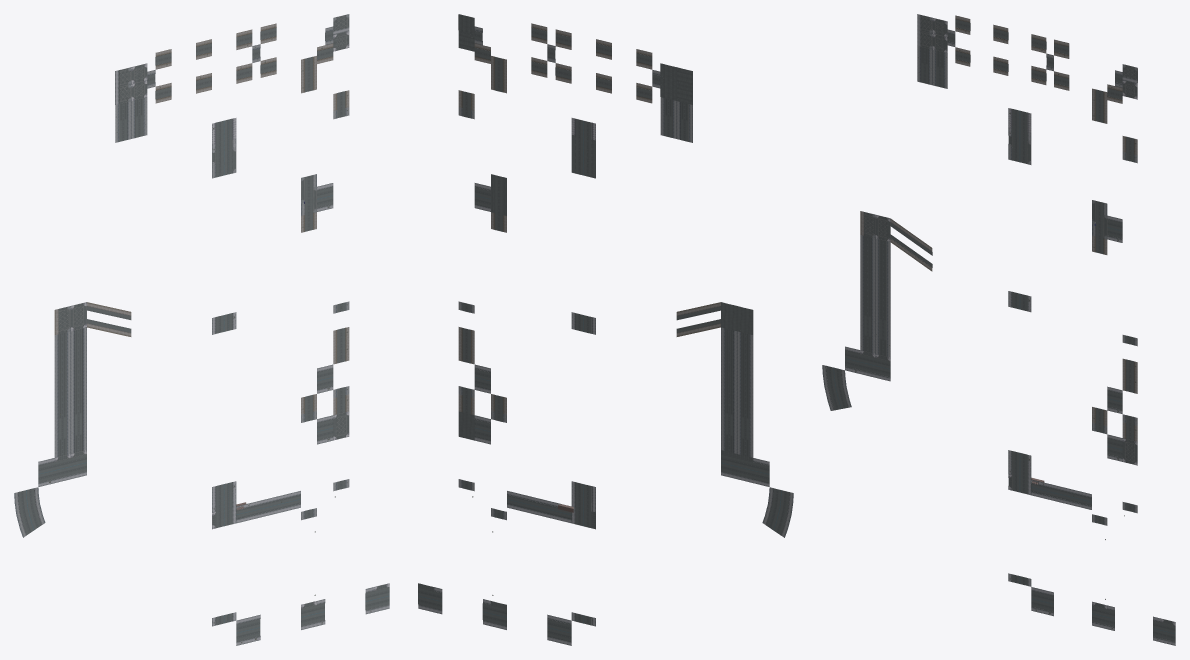
The model's file is comsw_comsw__part_06.obj.
The picture shows the model from 3 angles, left to right: view 1: azimuth 30°, elevation 25°; view 2: azimuth 150°, elevation 25°; view 3: azimuth 330°, elevation 25°; orthographic projection. The views are drawn at different scales.
Parts seen in each view (by area): view 1: comsw_comsw__part_06; view 2: comsw_comsw__part_06; view 3: comsw_comsw__part_06.
Part boxes in pixels (x1,y1,x2,y2): comsw_comsw__part_06: (14, 14, 389, 645); comsw_comsw__part_06: (418, 14, 793, 645); comsw_comsw__part_06: (822, 14, 1175, 645).
Size of the model in its own units: 465 by 725 by 5.61.
Materials: 96 (96 with a texture image).
